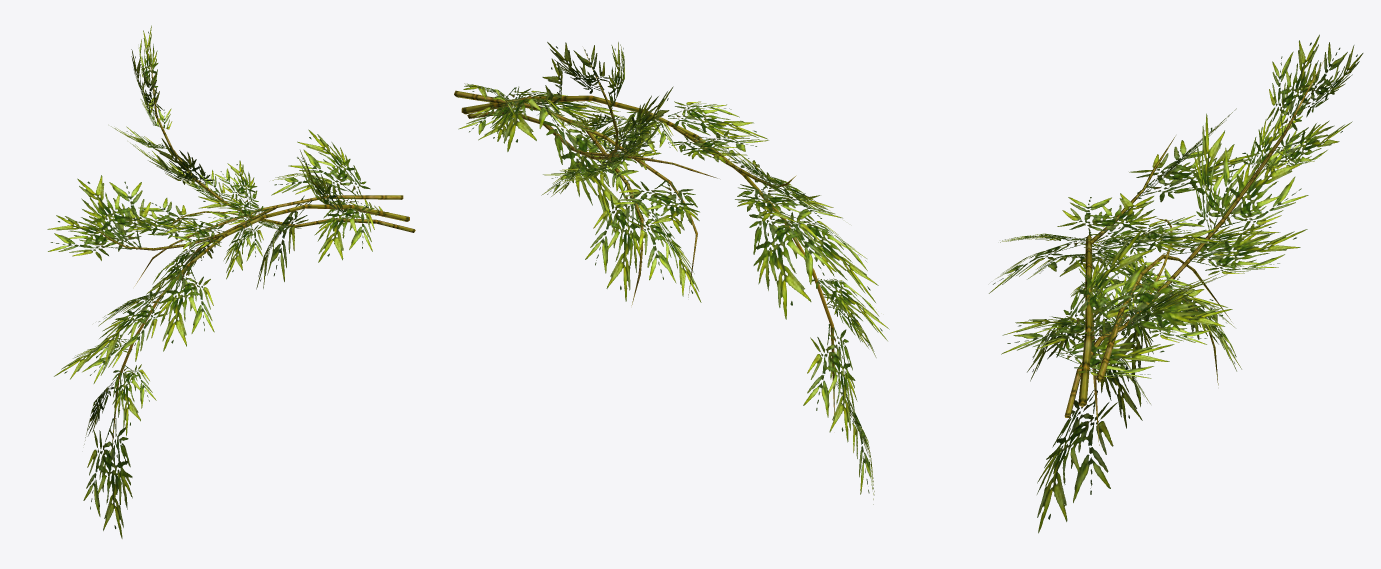
Rendered from S_Tree_Green003.FBX.
3 views of the same model, side by side, from view 1: azimuth 30°, elevation 25°; view 2: azimuth 150°, elevation 25°; view 3: azimuth 270°, elevation 25° (orthographic). The views are drawn at different scales.
Parts seen in each view (by area): view 1: S_Tree_Green003; view 2: S_Tree_Green003; view 3: S_Tree_Green003.
Boxes of the visible parts, x1,y1,x2,y2 form: S_Tree_Green003: [47, 25, 415, 538]; S_Tree_Green003: [454, 42, 889, 504]; S_Tree_Green003: [989, 34, 1363, 533].
Bounding box in the file's own units: 668 × 477 × 805.
